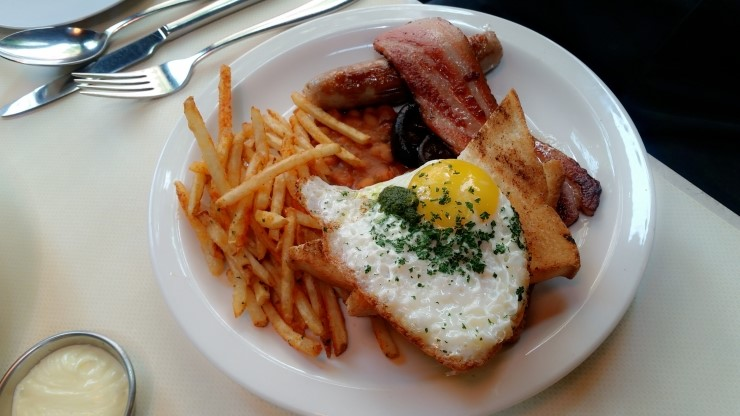fried egg: (369, 160, 513, 327)
slice of bread: (486, 100, 576, 276)
